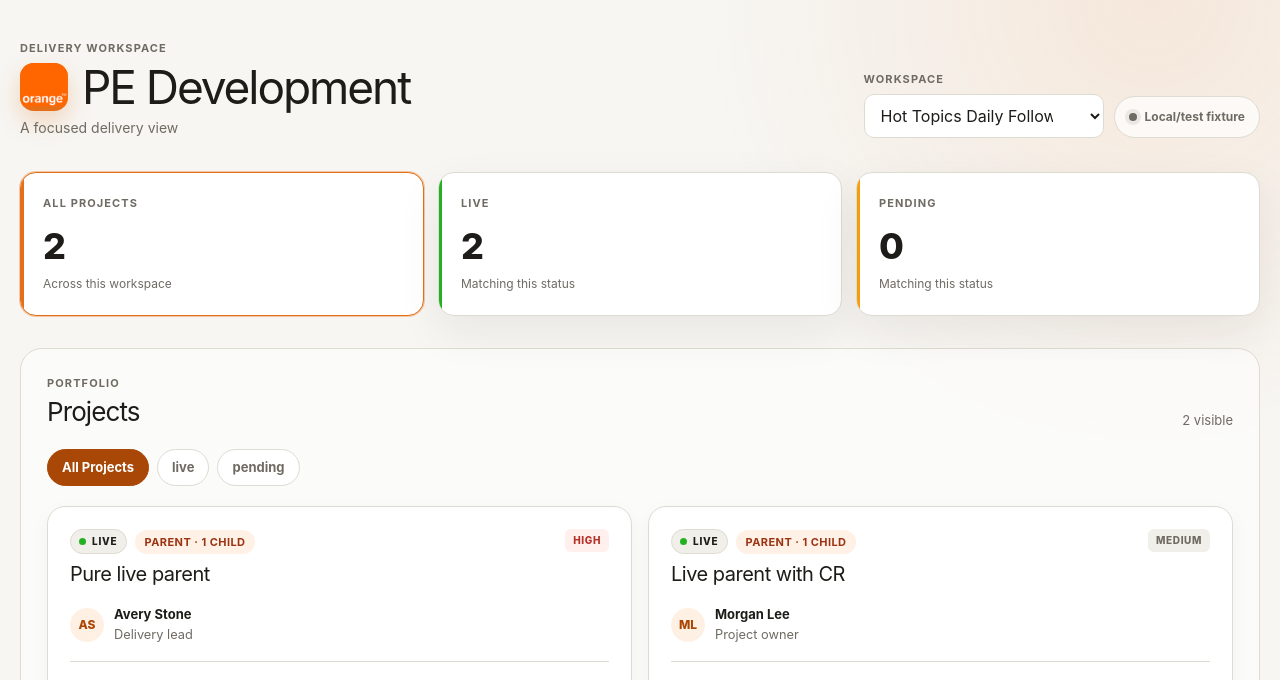
DashboardShell › shows a Live / Live with CRs dropdown for pe-development live filter
This screenshot has width=1280, height=680.
Check: the field labelled "Live view" is not shown
Step 1. Click the button "live 2 Matching this status" → (518, 284), box x1=438 y1=172 x2=842 y2=316
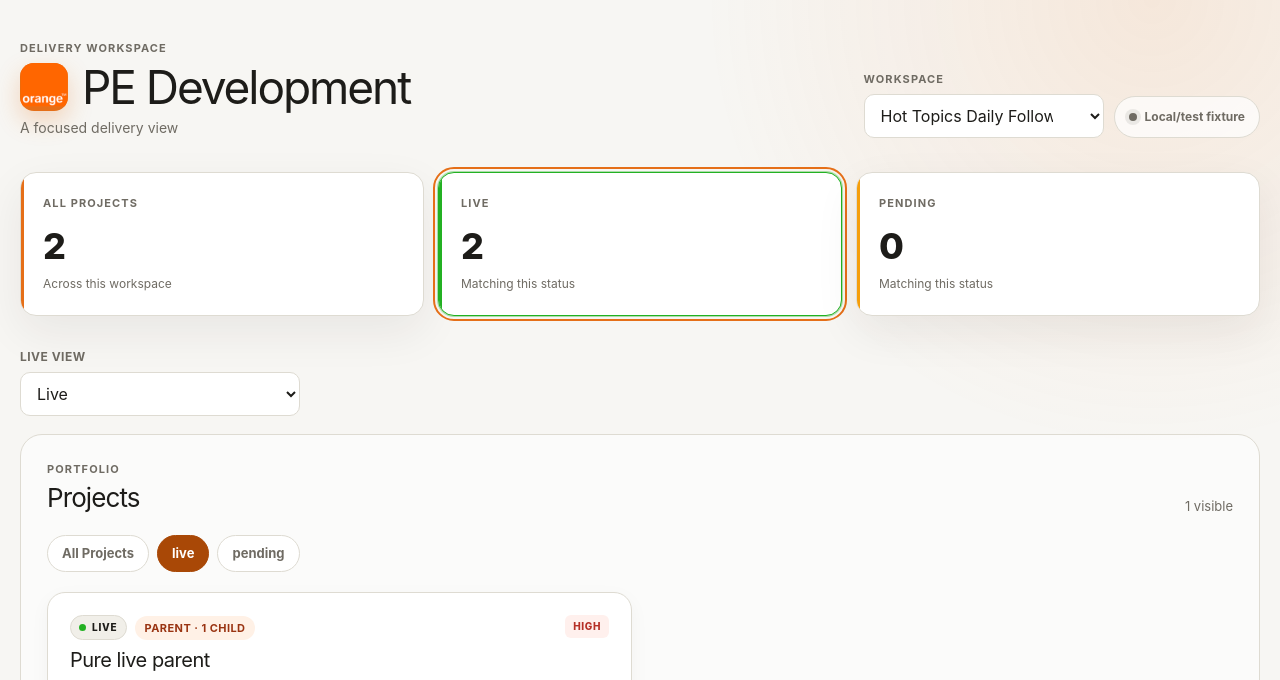
Check: the heading "Pure live parent" is shown, box x1=70 y1=648 x2=210 y2=672
Check: the dropdown labelled "Live view" is shown
Check: the heading "Live parent with CR" is gone
Step 2. Select "Live with CRs" in the dropdown labelled "Live view" → (160, 394), box x1=20 y1=372 x2=300 y2=416
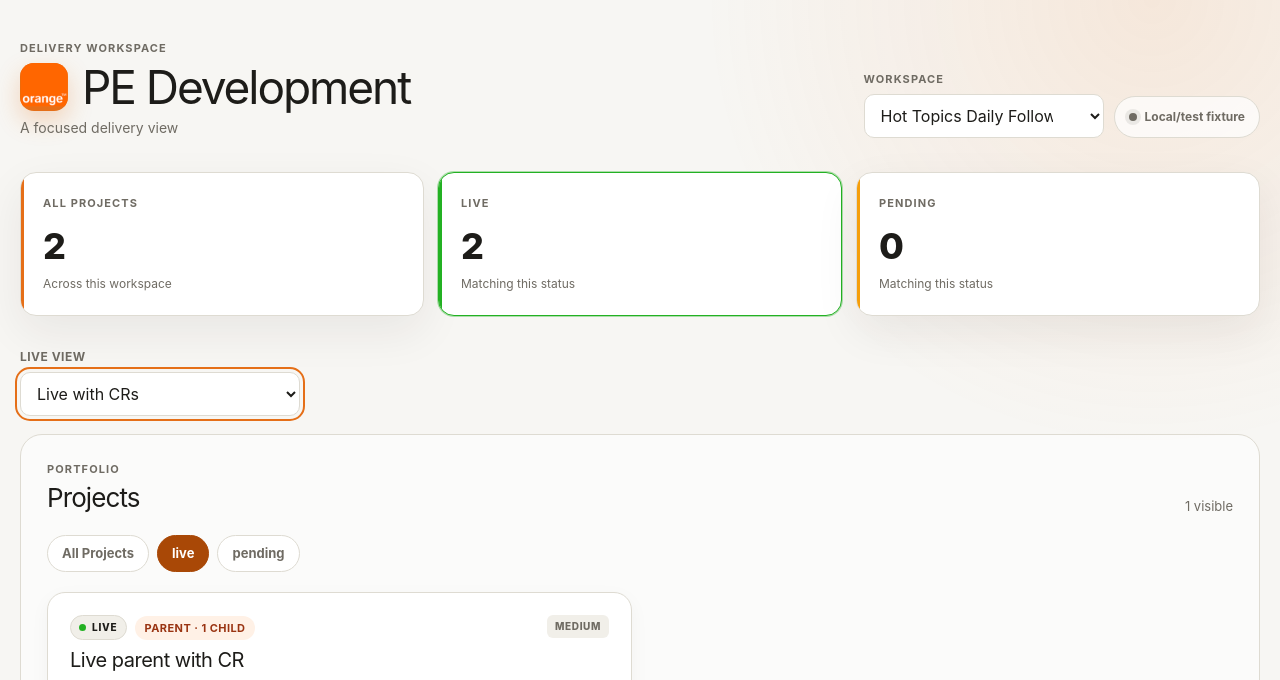
Check: the heading "Pure live parent" is gone
Check: the heading "Live parent with CR" is shown, box x1=70 y1=648 x2=256 y2=673
